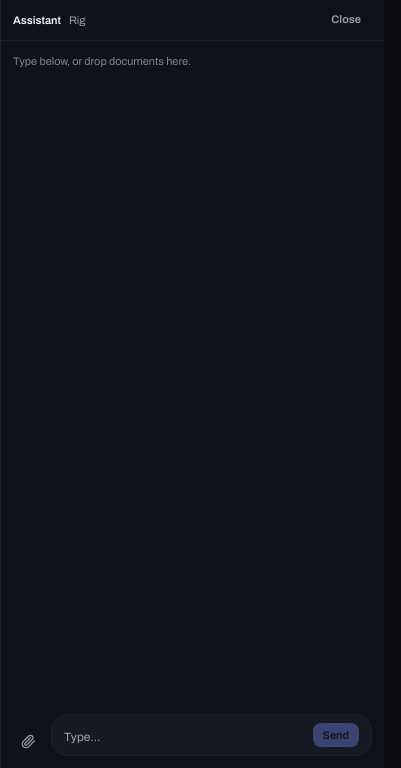
Test case: AssistDock — the chat block › a failed seat is marked; a second send into the SAME session mounts no duplicate block
Type "q1" into the text box with test id "assist-input".
click(184, 737); type("q1")  # box [64,727,304,747]
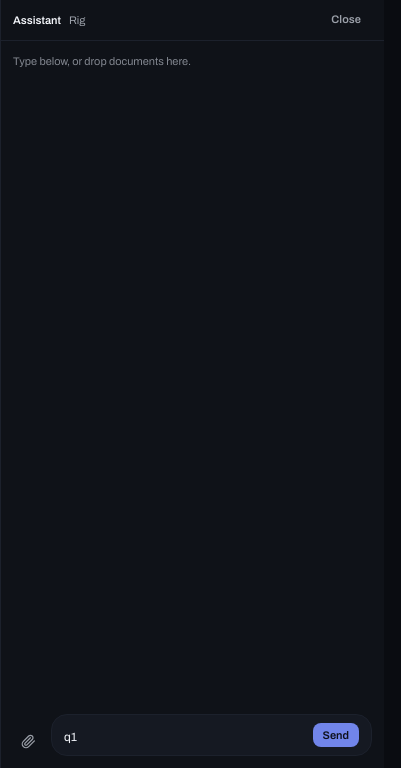
Click the button with test id "assist-send".
click(336, 735)  # box [312,722,359,747]
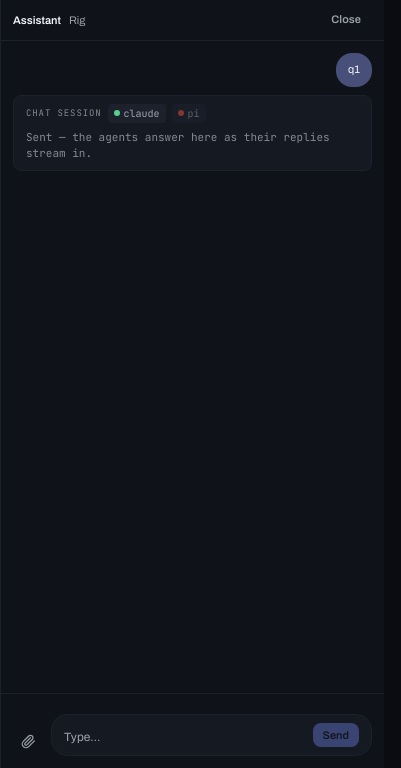
Check: the element with test id "assist-chat" is shown, box [13,95,372,171]
Type "q2" into the text box with test id "assist-input".
click(184, 737); type("q2")  # box [64,727,304,747]
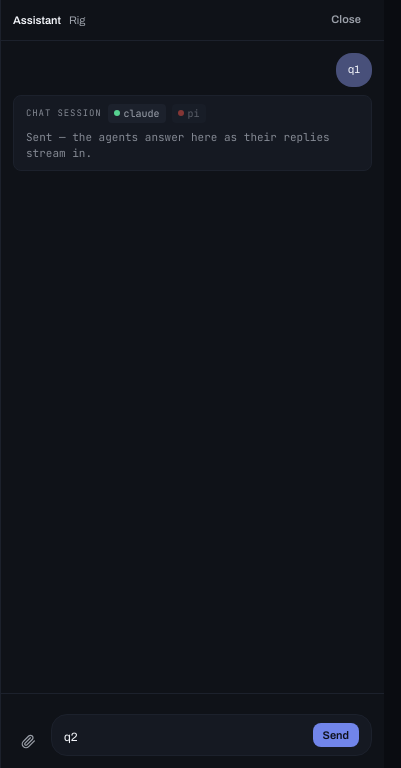
Click the button with test id "assist-send".
click(336, 735)  # box [312,722,359,747]
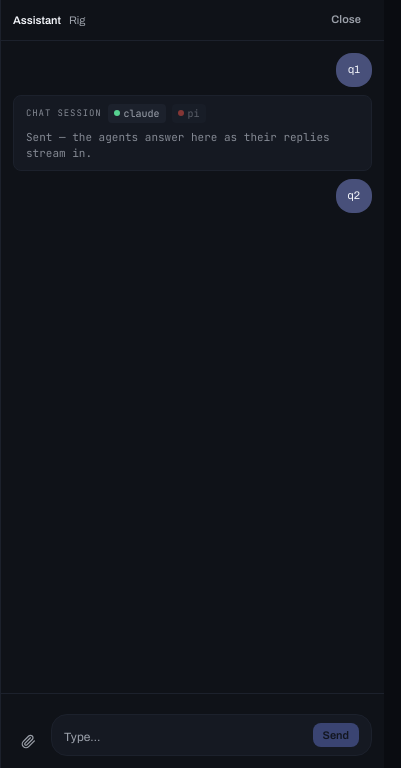
Check: the number of elements with test id "assist-chat" is 1, box [13,95,372,171]
Check: the number of elements with test id "assist-user-msg" is 2, box [336,53,372,87]; [336,179,372,213]
